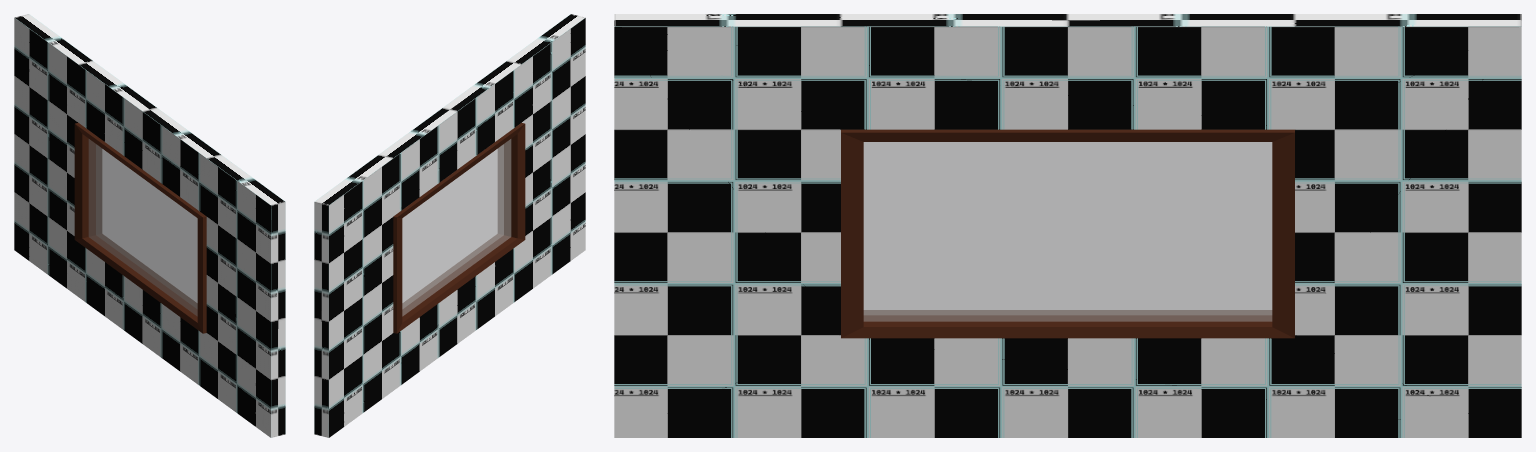
The model's file is window.gltf.
3 renders of one model, left to right at view 1: azimuth 30°, elevation 25°; view 2: azimuth 150°, elevation 25°; view 3: azimuth 270°, elevation 25°, orthographic. The views are drawn at different scales.
Visible parts, largest first — view 1: wall, Cube, window sill; view 2: wall, Cube, window sill; view 3: wall, Cube, window sill.
Boxes of the visible parts, <box> form: wall: <box>14,14,285,437</box>; Cube: <box>88,139,197,316</box>; window sill: <box>74,122,206,333</box>; wall: <box>314,14,585,437</box>; Cube: <box>402,139,511,316</box>; window sill: <box>393,122,525,333</box>; wall: <box>614,14,1521,437</box>; Cube: <box>863,142,1272,321</box>; window sill: <box>841,129,1294,338</box>.
Size of the model in its own units: 0.6 by 6 by 12.
Materials: 3 (1 with a texture image).
